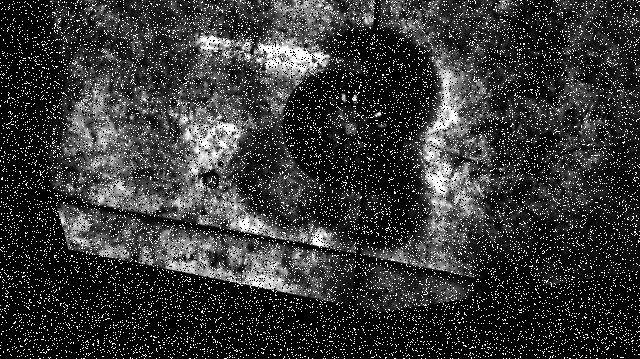pot: (283, 69, 404, 187)
